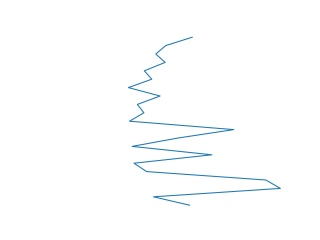crevasseRiverBedLagDeposit: (124, 36, 284, 209)
